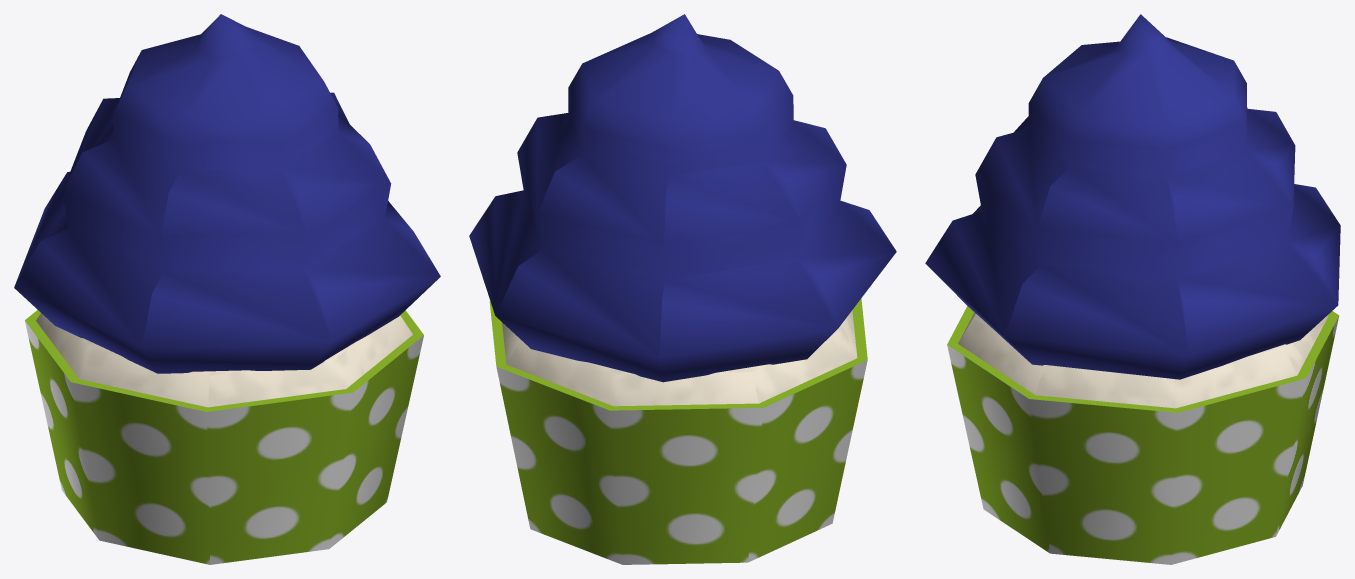
Rendered from Cupcake_A_5.FBX.
The picture shows the model from 3 angles, left to right: view 1: azimuth 30°, elevation 25°; view 2: azimuth 150°, elevation 25°; view 3: azimuth 270°, elevation 25°; orthographic projection.
Parts seen in each view (by area): view 1: Cupcake; view 2: Cupcake; view 3: Cupcake.
Part boxes in pixels (x1,y1,x2,y2): Cupcake: (14,14,440,564); Cupcake: (469,14,896,564); Cupcake: (925,14,1340,564).
Bounding box in the file's own units: 34.42 × 43.01 × 33.65.
